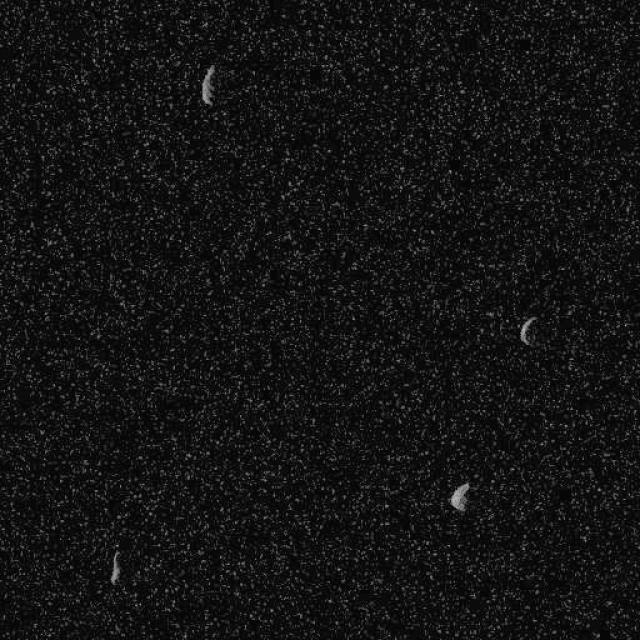D2: (200, 64, 216, 106), (449, 482, 470, 512), (518, 315, 538, 346), (109, 548, 121, 584)
